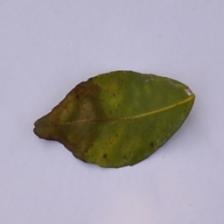black spot: (27, 76, 112, 160)
